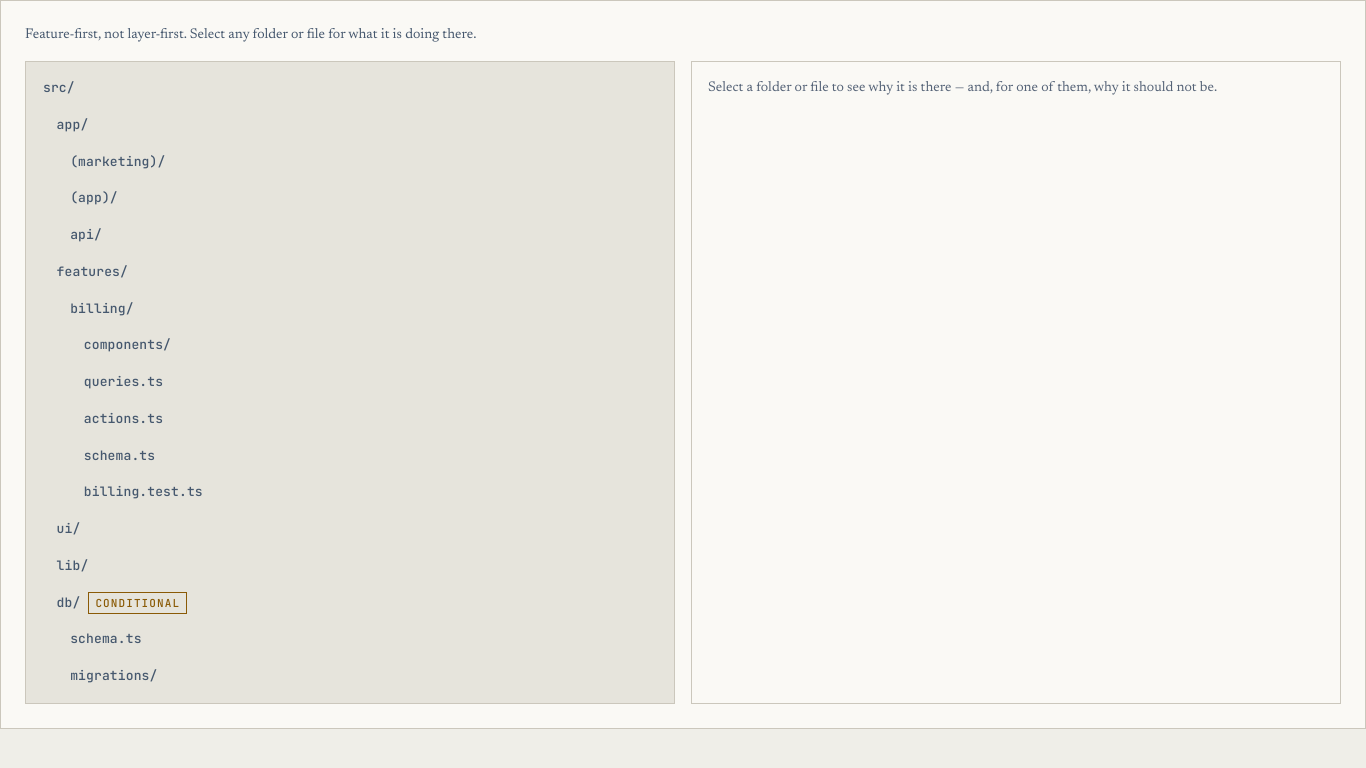
Scenario: names the selected node as a folder or a file from its kind, since a trailing slash is a convention not a label
The image size is (1366, 768).
Click the button with aria-label "src/features/billing/queries.ts" at (123, 382), box top-left (34, 364), bottom-right (666, 401)
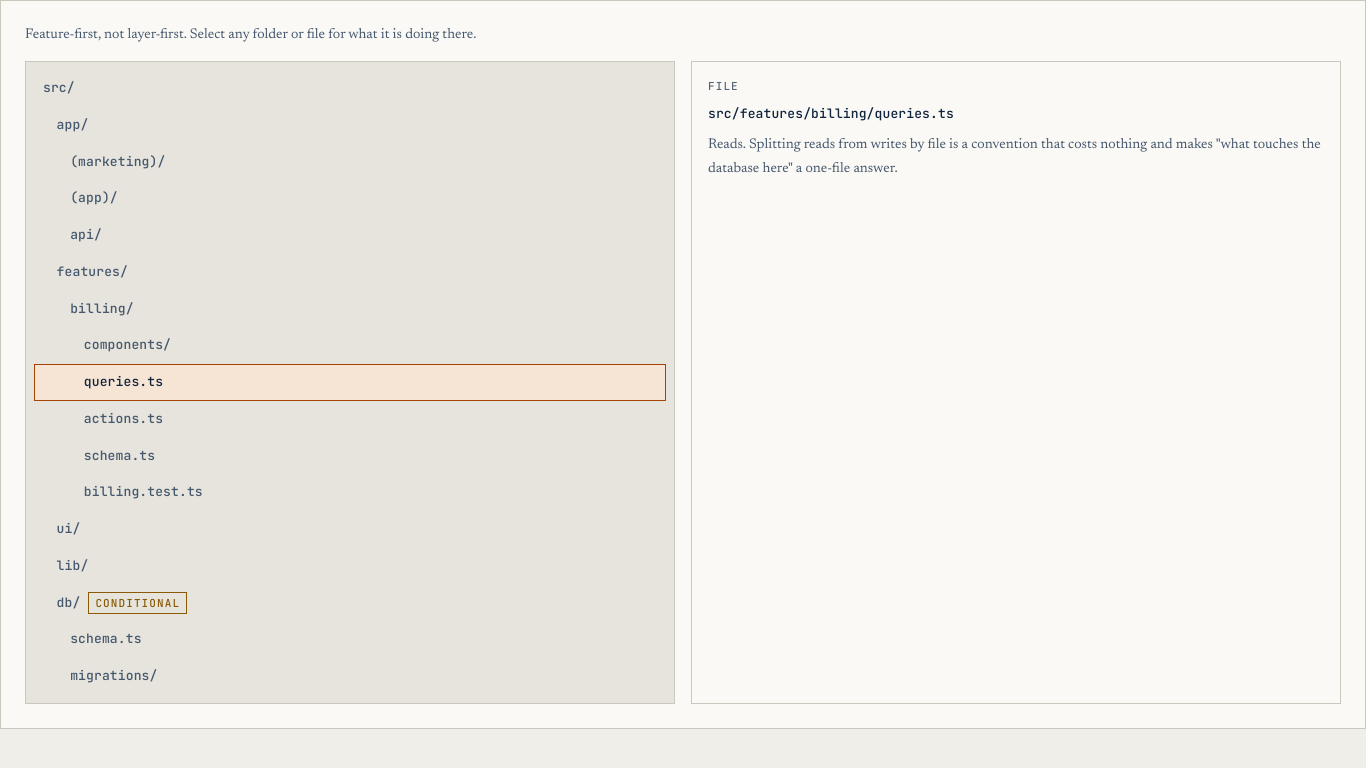
Expected: the text "File" is shown, top-left (708, 78), bottom-right (739, 94)
Click the button with aria-label "src/app/" at (72, 124), box top-left (34, 107), bottom-right (666, 144)
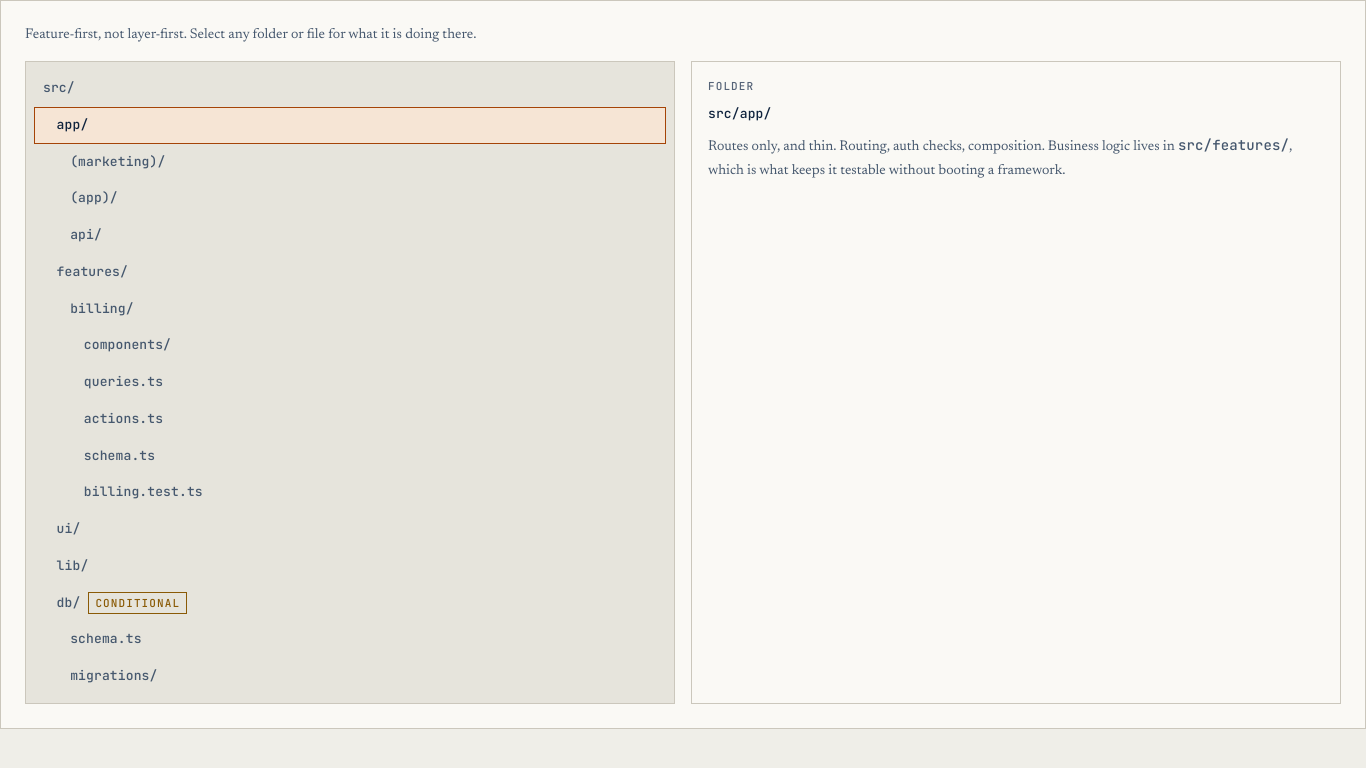
Expected: the text "Folder" is shown, top-left (708, 78), bottom-right (754, 94)
